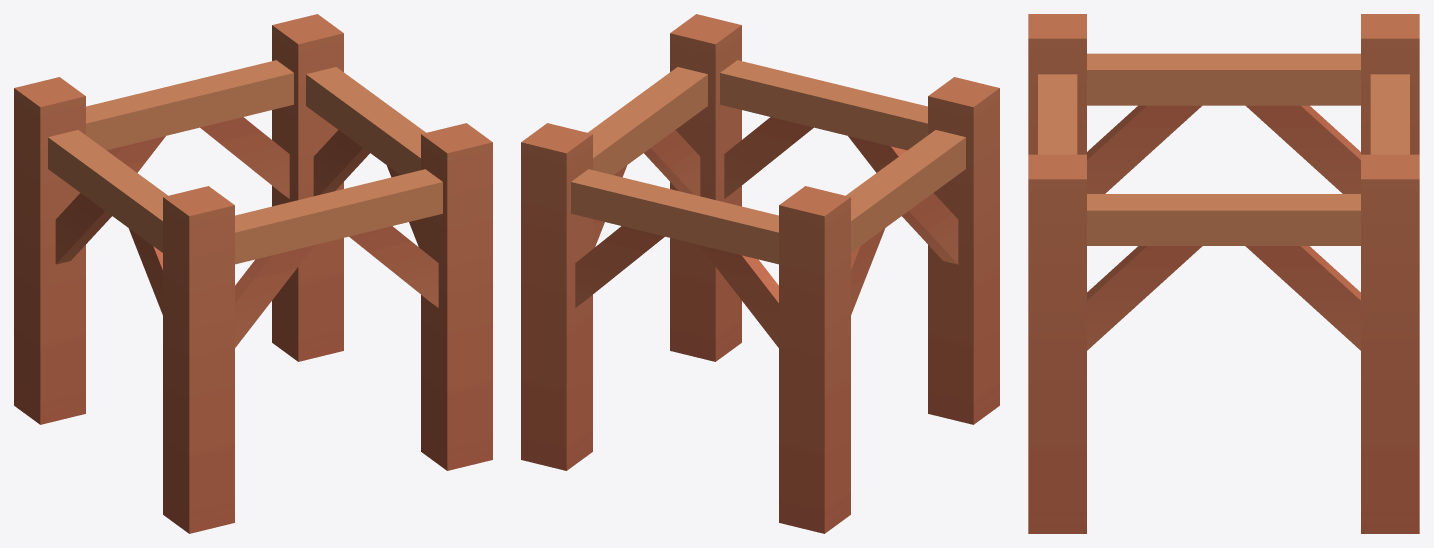
File: wood-structure.glb
The picture shows the model from 3 angles, left to right: view 1: azimuth 30°, elevation 25°; view 2: azimuth 150°, elevation 25°; view 3: azimuth 270°, elevation 25°; orthographic projection. The views are drawn at different scales.
Parts seen in each view (by area): view 1: wood-structure; view 2: wood-structure; view 3: wood-structure.
Boxes of the visible parts, <box> form: wood-structure: <box>14,14,492,533</box>; wood-structure: <box>521,14,999,533</box>; wood-structure: <box>1028,14,1419,533</box>.
Bounding box in the file's own units: 1 × 1 × 1.
